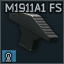M1911A1 front sight: (0, 0, 64, 64)
